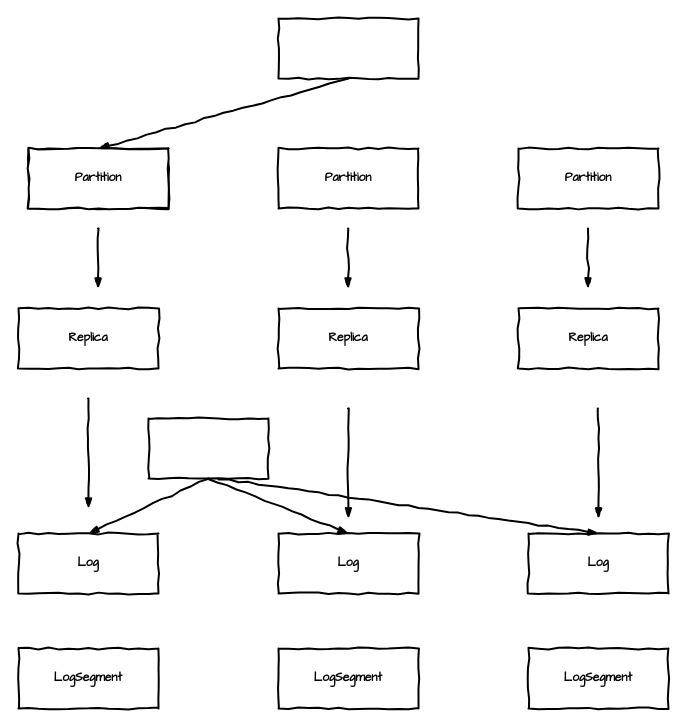
Some shapes in this 686 by 726 pixel diagram are drawn without their labels. Here are the shapes that lost their labels. From the top down, the box of each, then its label:
(277, 17, 419, 79): ReplicaManager
(147, 417, 269, 479): LogManager
